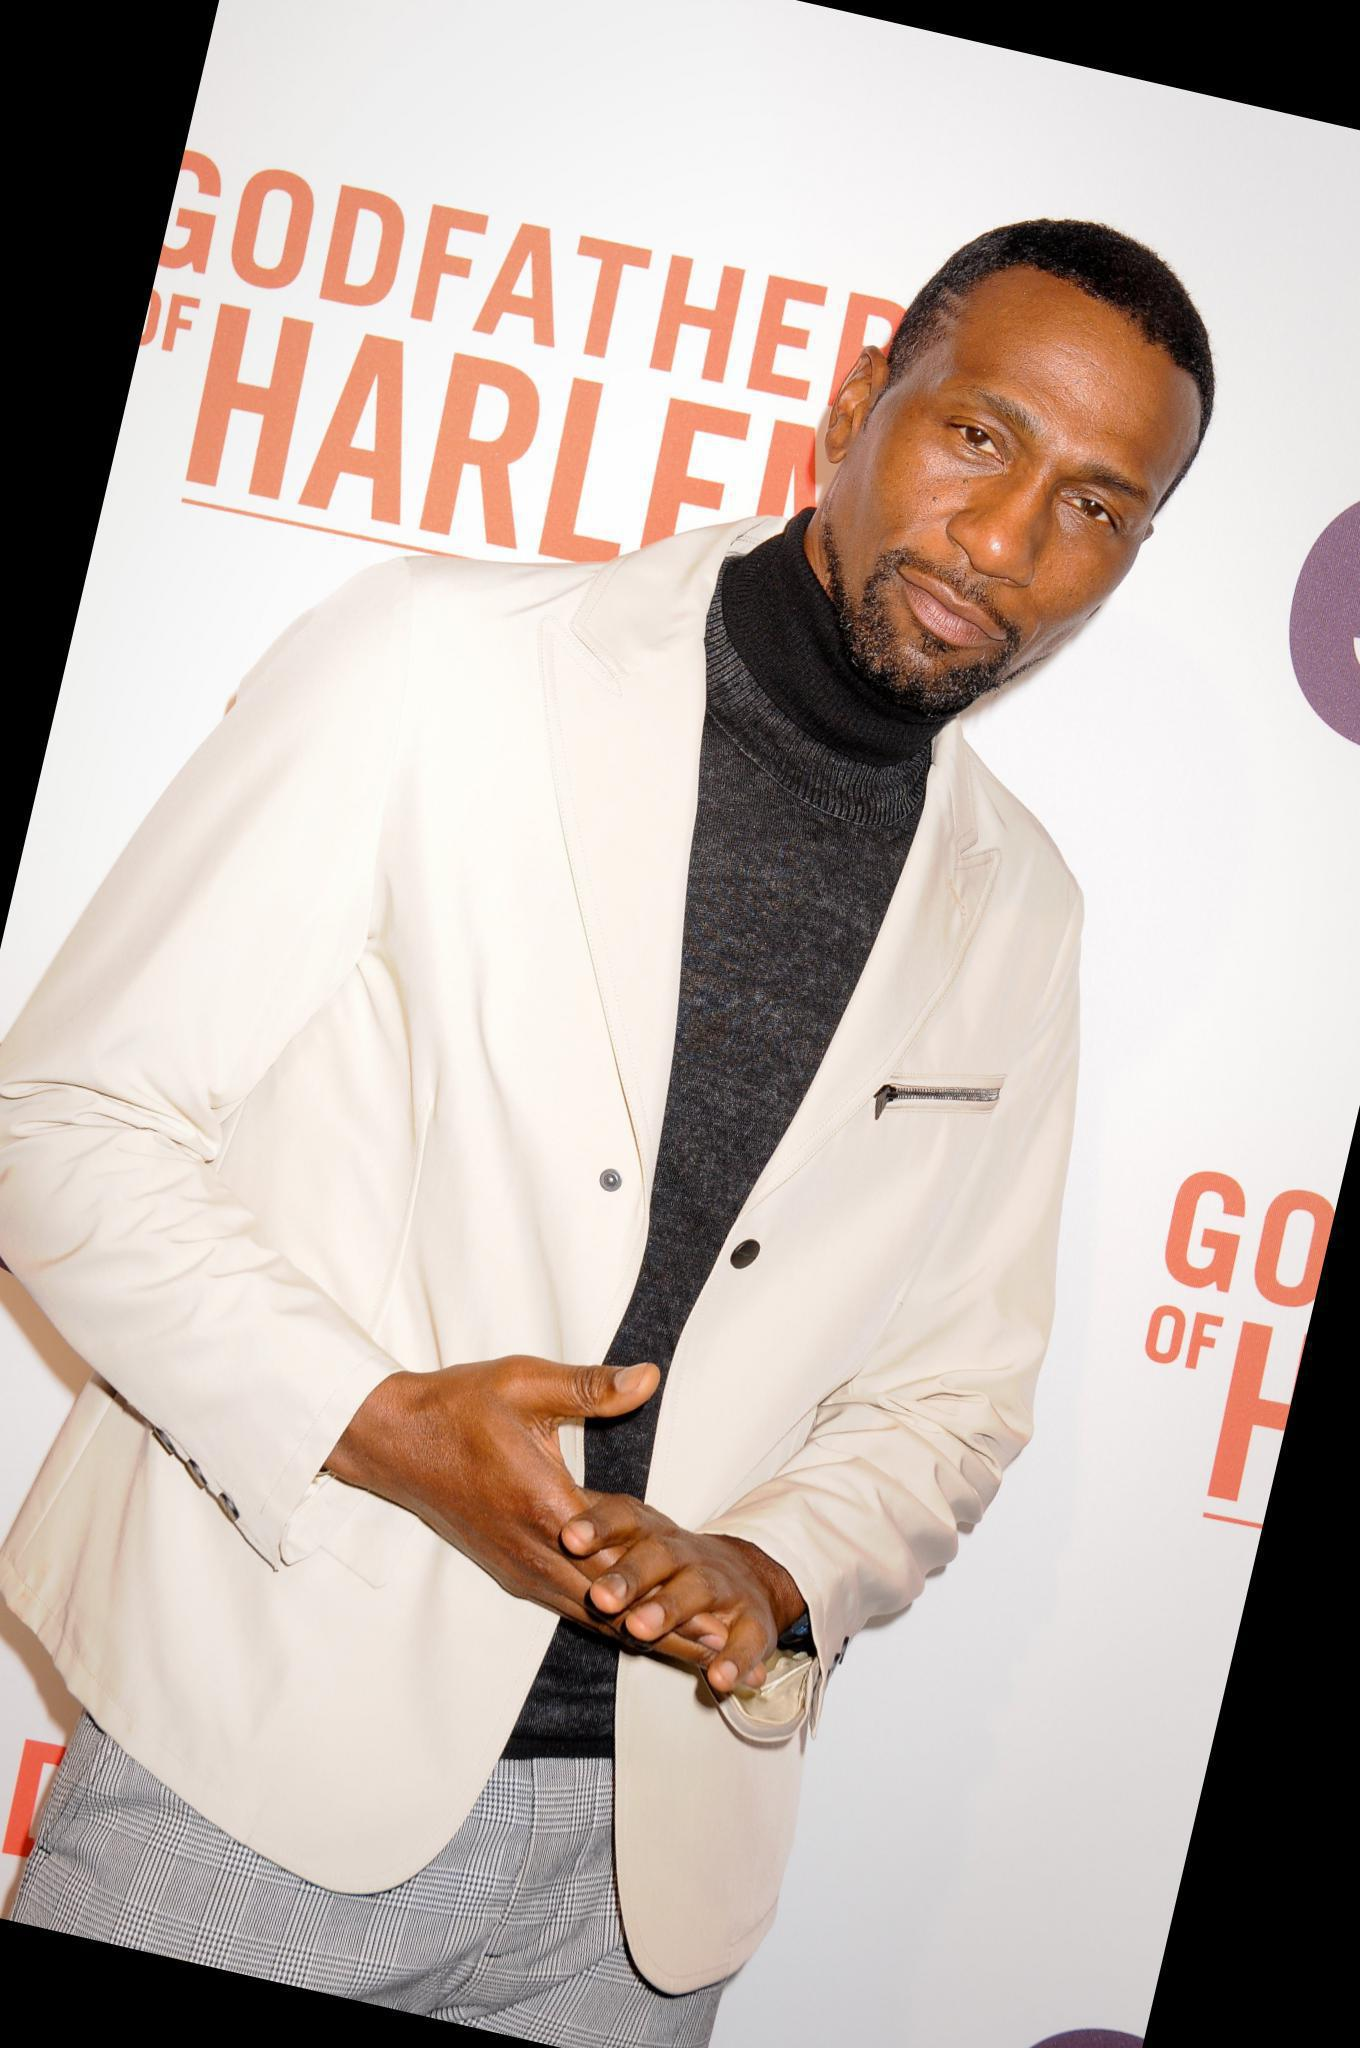Sober: (871, 287, 1166, 677)
